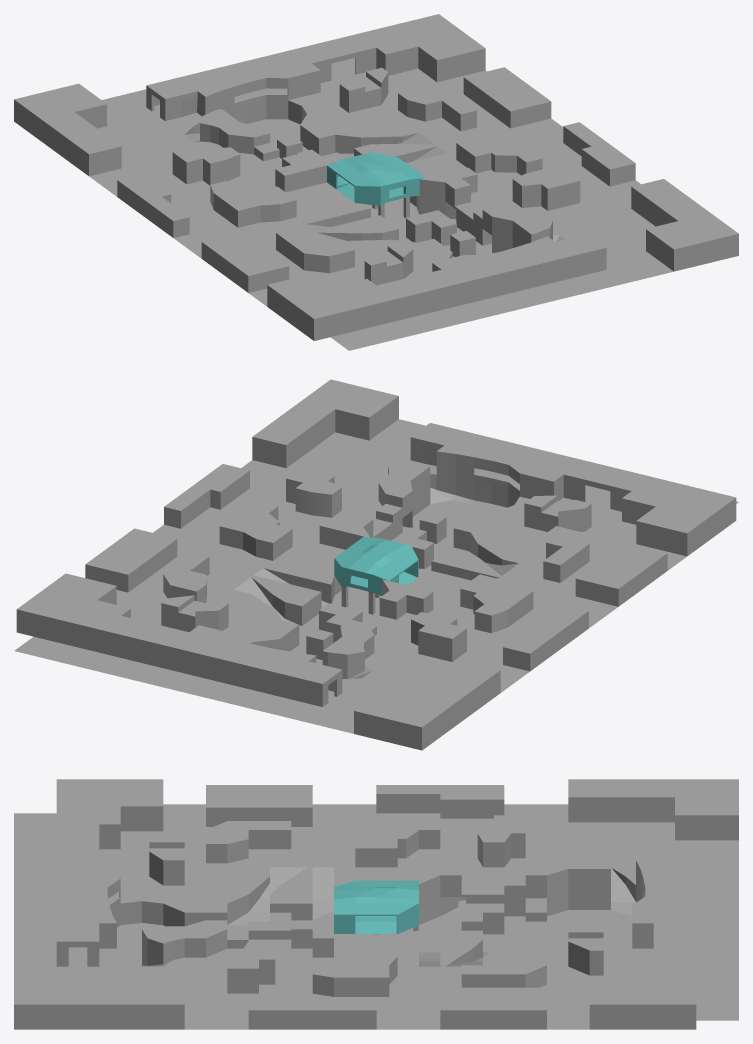
File: Entrenched_Test1.fbx
The picture shows the model from 3 angles, top to bottom: view 1: azimuth 30°, elevation 25°; view 2: azimuth 150°, elevation 25°; view 3: azimuth 270°, elevation 25°; orthographic projection. The views are drawn at different scales.
Visible parts, largest first — view 1: polySurface5, pCube3; view 2: polySurface5, pCube3; view 3: polySurface5, pCube3.
Boxes of the visible parts, bbox=[...] form: polySurface5: bbox=[14, 14, 738, 350]; pCube3: bbox=[327, 152, 425, 205]; polySurface5: bbox=[14, 379, 738, 750]; pCube3: bbox=[334, 536, 418, 595]; polySurface5: bbox=[14, 779, 738, 1029]; pCube3: bbox=[334, 880, 418, 933].
Bounding box in the file's own units: 25 × 2.83 × 34.
